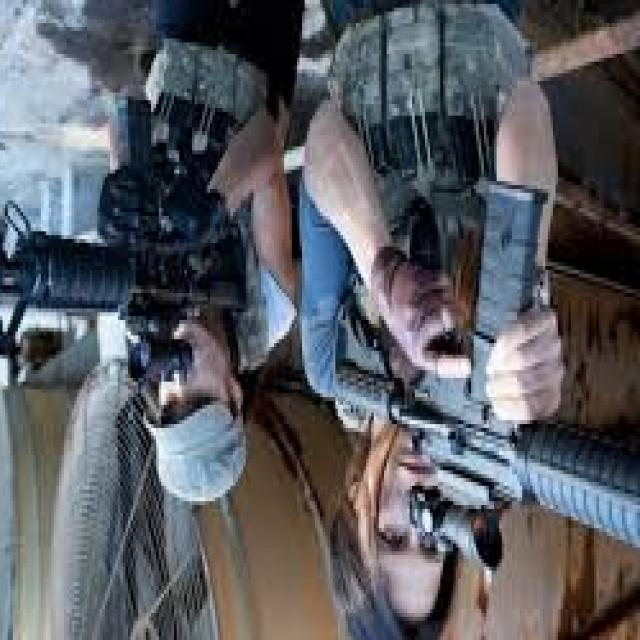gun: (289, 154, 640, 640), (0, 89, 261, 397)
